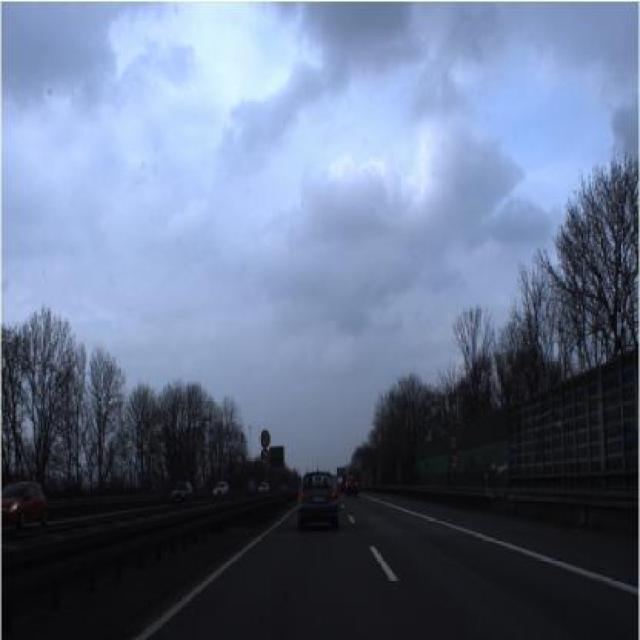Ograniczenie predkosci do 120: (258, 427, 274, 448), (448, 432, 462, 452)
